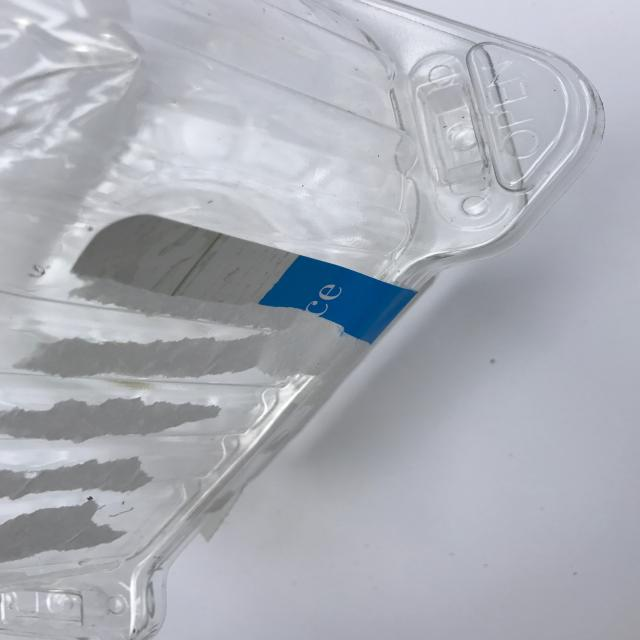plastic: (0, 0, 606, 640)
